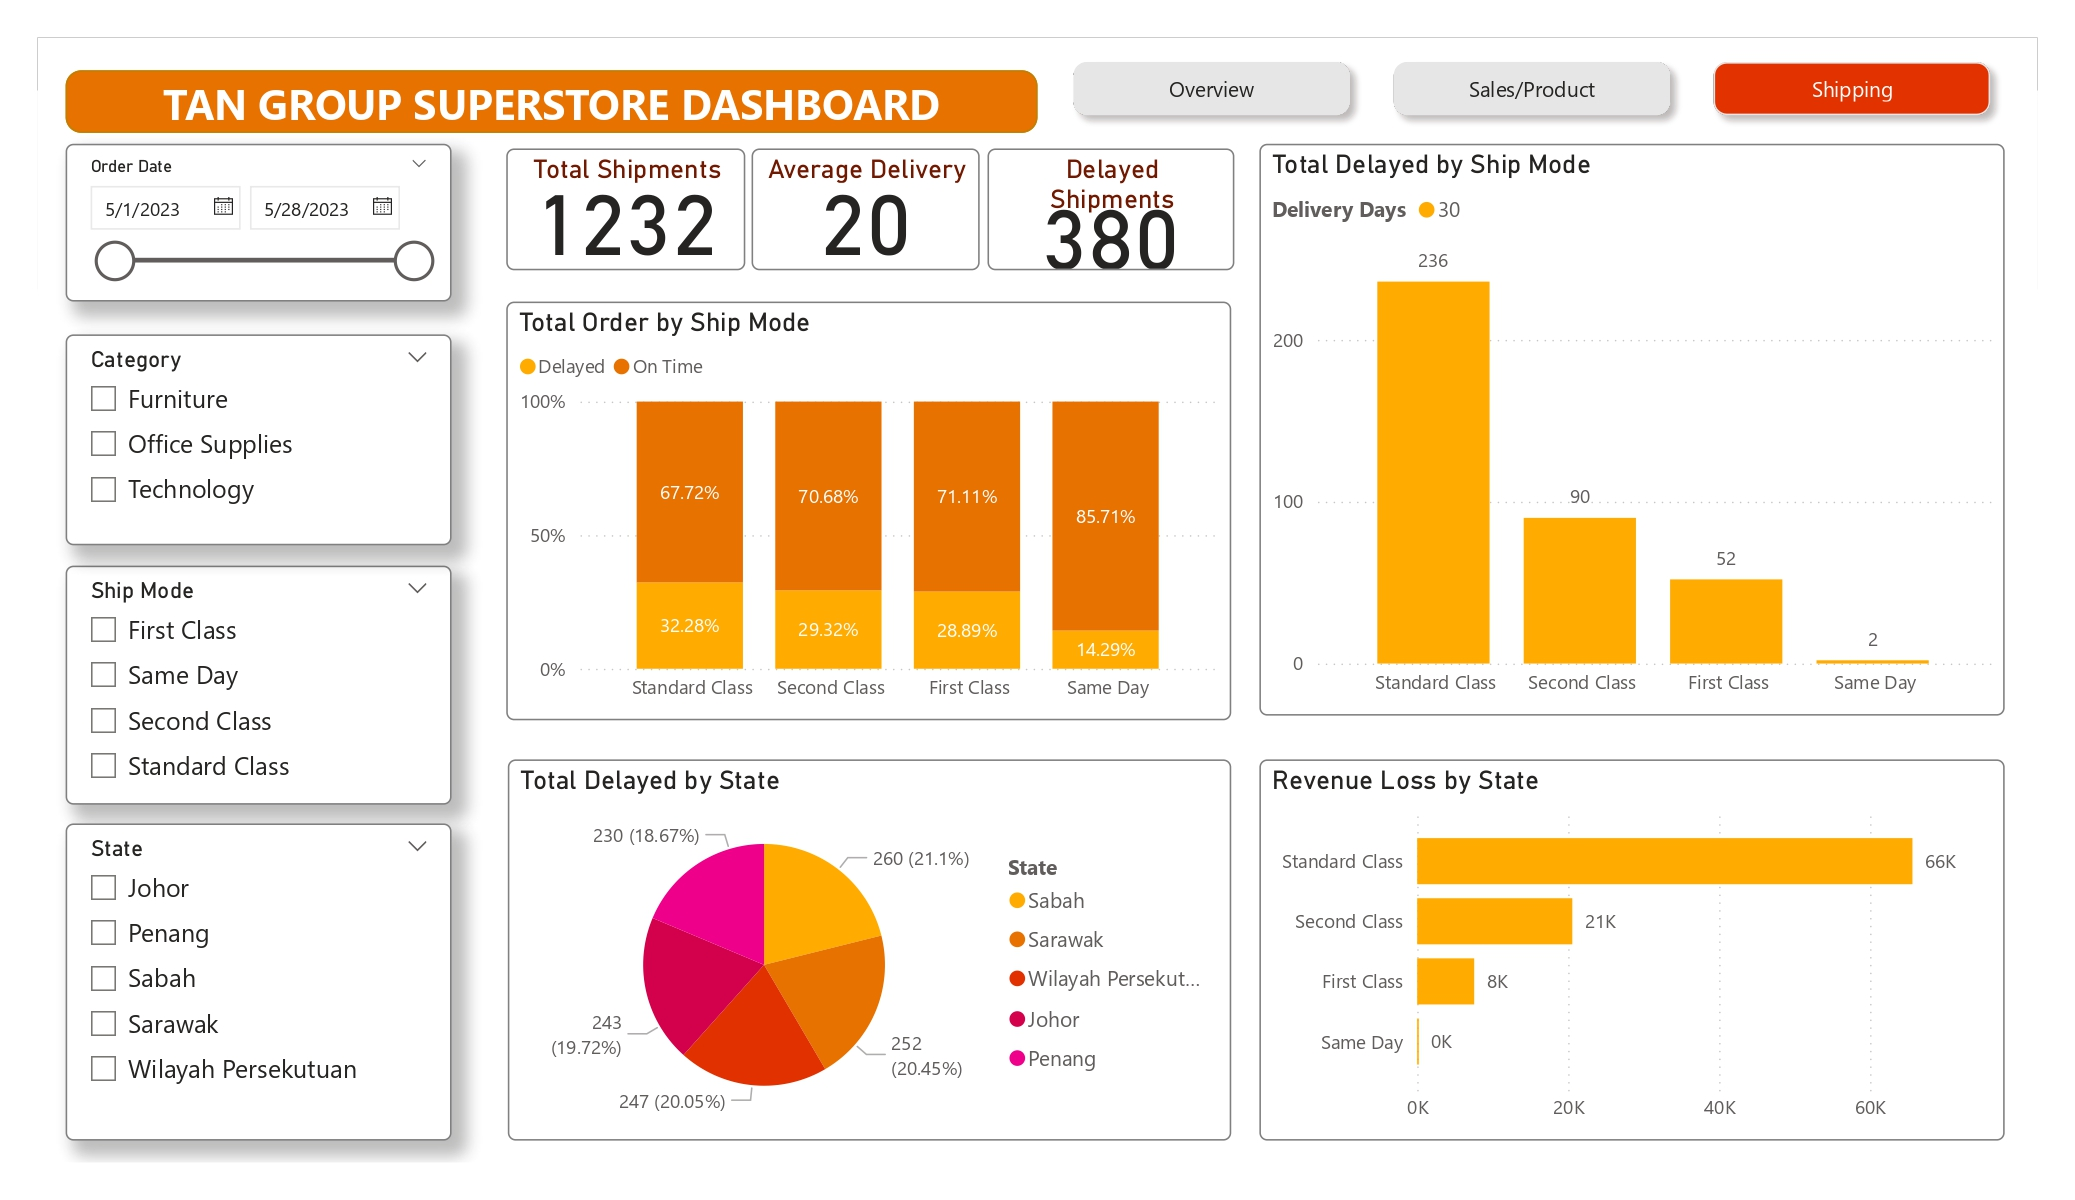

This screenshot's page, from the dashboard's own definition file:
{"tool":"powerbi","page":{"name":"Shipping","canvas":[1280,720],"ordinal":2},"visuals":[{"type":"hundredPercentStackedColumnChart","title":"Total Order by Ship Mode","fields":{"Category":["Shipping.Ship Mode"],"Y":["Shipping.Order Date"],"Series":["Shipping.Is Delayed"]},"box":[300.4,168.9,464,268.4],"z":0},{"type":"columnChart","title":"Total Delayed by Ship Mode","fields":{"Category":["Shipping.Ship Mode"],"Series":["Shipping.Delivery Days"],"Y":["Shipping.Is Delayed"]},"box":[782.2,67.6,476.4,366.2],"z":1000},{"type":"pieChart","title":"Total Delayed by State","fields":{"Y":["Shipping.Is Delayed"],"Category":["Shipping.State"]},"box":[300.9,462.2,463.2,243.5],"z":2000},{"type":"barChart","title":"Revenue Loss by State","fields":{"Y":["Shipping.LostRevenue_DelayOnly"],"Category":["Shipping.Ship Mode"]},"box":[782.2,462.2,476.4,243.6],"z":3000},{"type":"kpi","title":"Total Shipments","fields":{"Indicator":["Shipping.Total Shipments"],"TrendLine":["Shipping.Order Date.Variation.Date Hierarchy.Month"]},"box":[300.4,71.1,152.9,78.2],"z":4000},{"type":"kpi","title":"Average Delivery","fields":{"Indicator":["Shipping.Avg Delivery Time (Days)"],"TrendLine":["Shipping.Order Date.Variation.Date Hierarchy.Month"]},"box":[456.9,71.1,145.8,78.2],"z":5000},{"type":"kpi","title":"Delayed Shipments","fields":{"Indicator":["Shipping.Percentage Late Shipments"],"TrendLine":["Shipping.Order Date.Variation.Date Hierarchy.Month"]},"box":[608,71.1,158.2,78.2],"z":6000},{"type":"slicer","fields":{"Values":["Shipping.Order Date"]},"box":[17.8,67.6,247.1,101.3],"z":7000},{"type":"slicer","fields":{"Values":["Shipping.Ship Mode"]},"box":[17.8,337.8,247.1,152.9],"z":8000},{"type":"slicer","fields":{"Values":["Shipping.State"]},"box":[17.8,503.1,247.1,202.7],"z":9000},{"type":"pageNavigator","box":[654.2,7.1,604.4,51.6],"z":10000},{"type":"slicer","fields":{"Values":["Product.Category"]},"box":[17.8,190.2,247.1,135.1],"z":11000},{"type":"shape","box":[17.7,20.7,621.8,39.9],"z":12000}]}

Visuals, with their boxes on the page's 1280x720 design canvas (x1, y1, x2, y2). These are canvas units, not pixel positions in the 2075x1200 screenshot, which may show the page scaled, cropped or inside an application window:
"Total Order by Ship Mode" hundredPercentStackedColumnChart: 300 169 764 437
"Total Delayed by Ship Mode" columnChart: 782 68 1259 434
"Total Delayed by State" pieChart: 301 462 764 706
"Revenue Loss by State" barChart: 782 462 1259 706
"Total Shipments" kpi: 300 71 453 149
"Average Delivery" kpi: 457 71 603 149
"Delayed Shipments" kpi: 608 71 766 149
slicer - Shipping.Order Date: 18 68 265 169
slicer - Shipping.Ship Mode: 18 338 265 491
slicer - Shipping.State: 18 503 265 706
pageNavigator: 654 7 1259 59
slicer - Product.Category: 18 190 265 325
shape: 18 21 640 61
